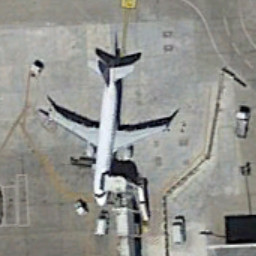Airplane: (37, 53, 178, 215)
